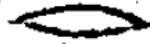Mouth: (20, 2, 149, 39)
